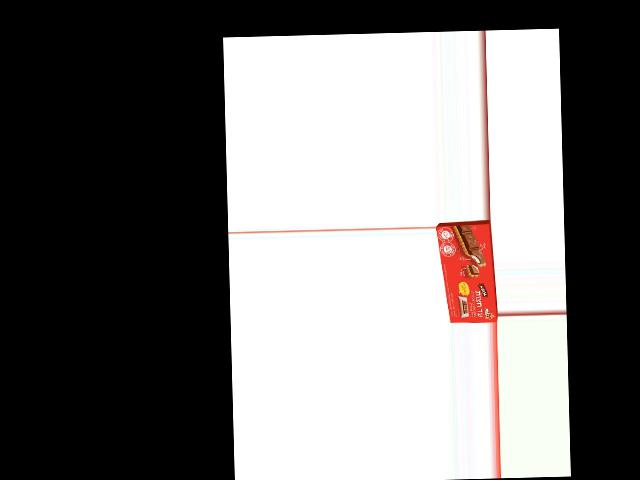chocolate: (441, 221, 493, 324)
